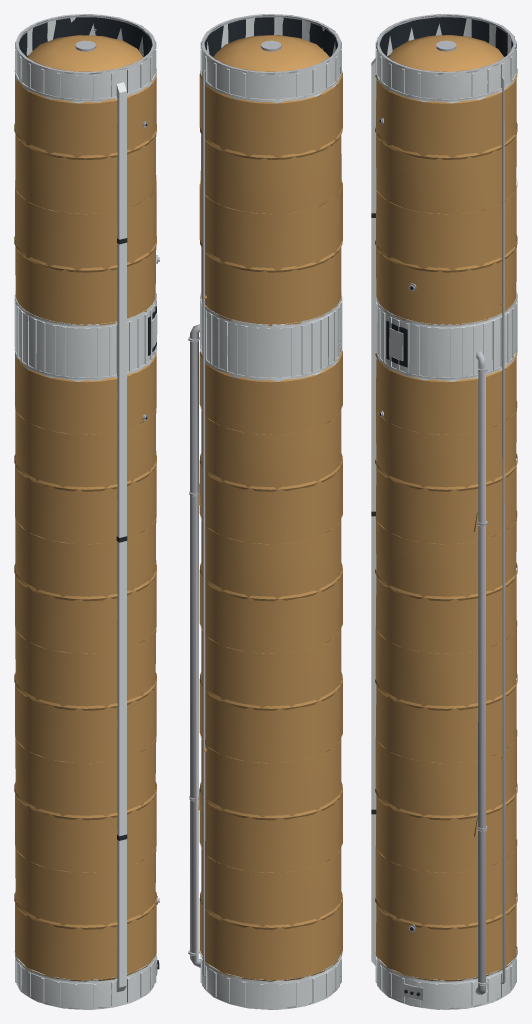
File: tank_s1_m_hydrolox.glb
3 renders of one model, left to right at view 1: azimuth 30°, elevation 25°; view 2: azimuth 150°, elevation 25°; view 3: azimuth 270°, elevation 25°, orthographic.
Parts seen in each view (by area): view 1: tank_s1_m_hydrolox_mesh; view 2: tank_s1_m_hydrolox_mesh; view 3: tank_s1_m_hydrolox_mesh.
Part boxes in pixels (bbox=[...]): tank_s1_m_hydrolox_mesh: bbox=[14, 14, 159, 1009]; tank_s1_m_hydrolox_mesh: bbox=[188, 14, 342, 1009]; tank_s1_m_hydrolox_mesh: bbox=[371, 14, 517, 1009].
Bounding box in the file's own units: 5.61 × 39.8 × 5.64.
